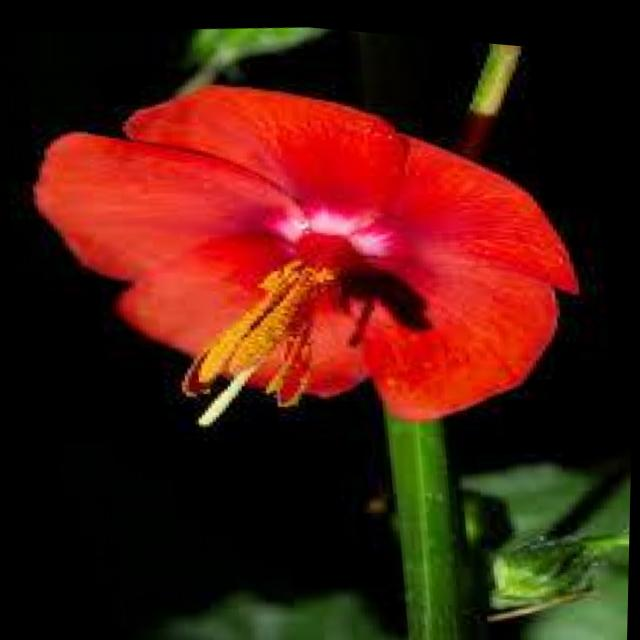Flower: (14, 32, 595, 460)
